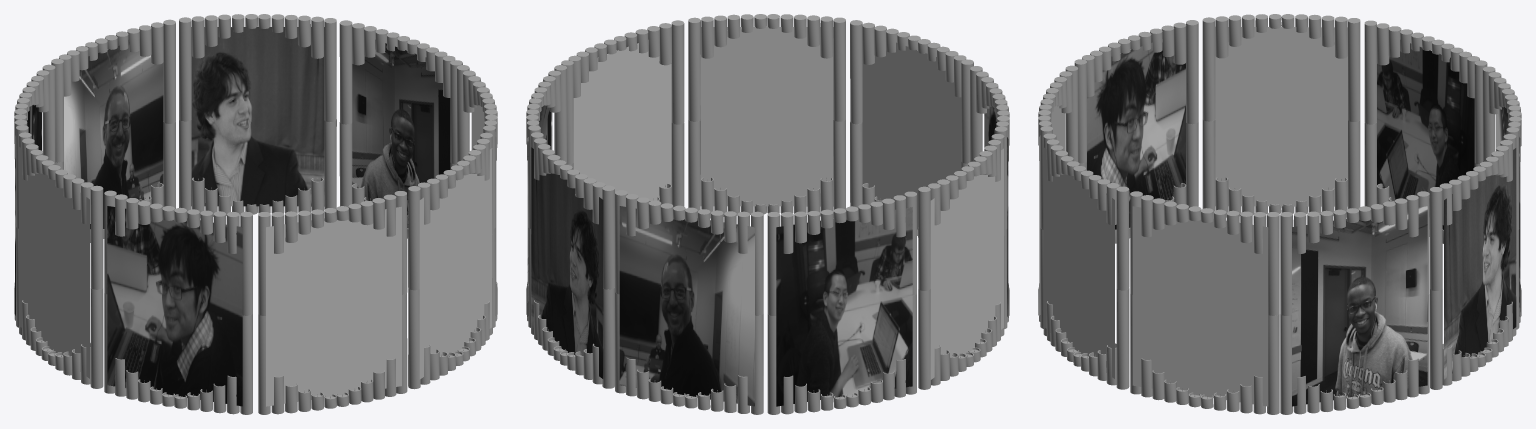
File: FallenHeros.fbx
The picture shows the model from 3 angles, left to right: view 1: azimuth 30°, elevation 25°; view 2: azimuth 150°, elevation 25°; view 3: azimuth 270°, elevation 25°; orthographic projection.
Parts seen in each view (by area): view 1: polySurface37; view 2: polySurface37; view 3: polySurface37.
Part boxes in pixels (x1,y1,x2,y2): polySurface37: (14, 14, 497, 414); polySurface37: (526, 14, 1009, 414); polySurface37: (1038, 14, 1521, 414).
Size of the model in its own units: 35.48 by 16 by 35.45.
